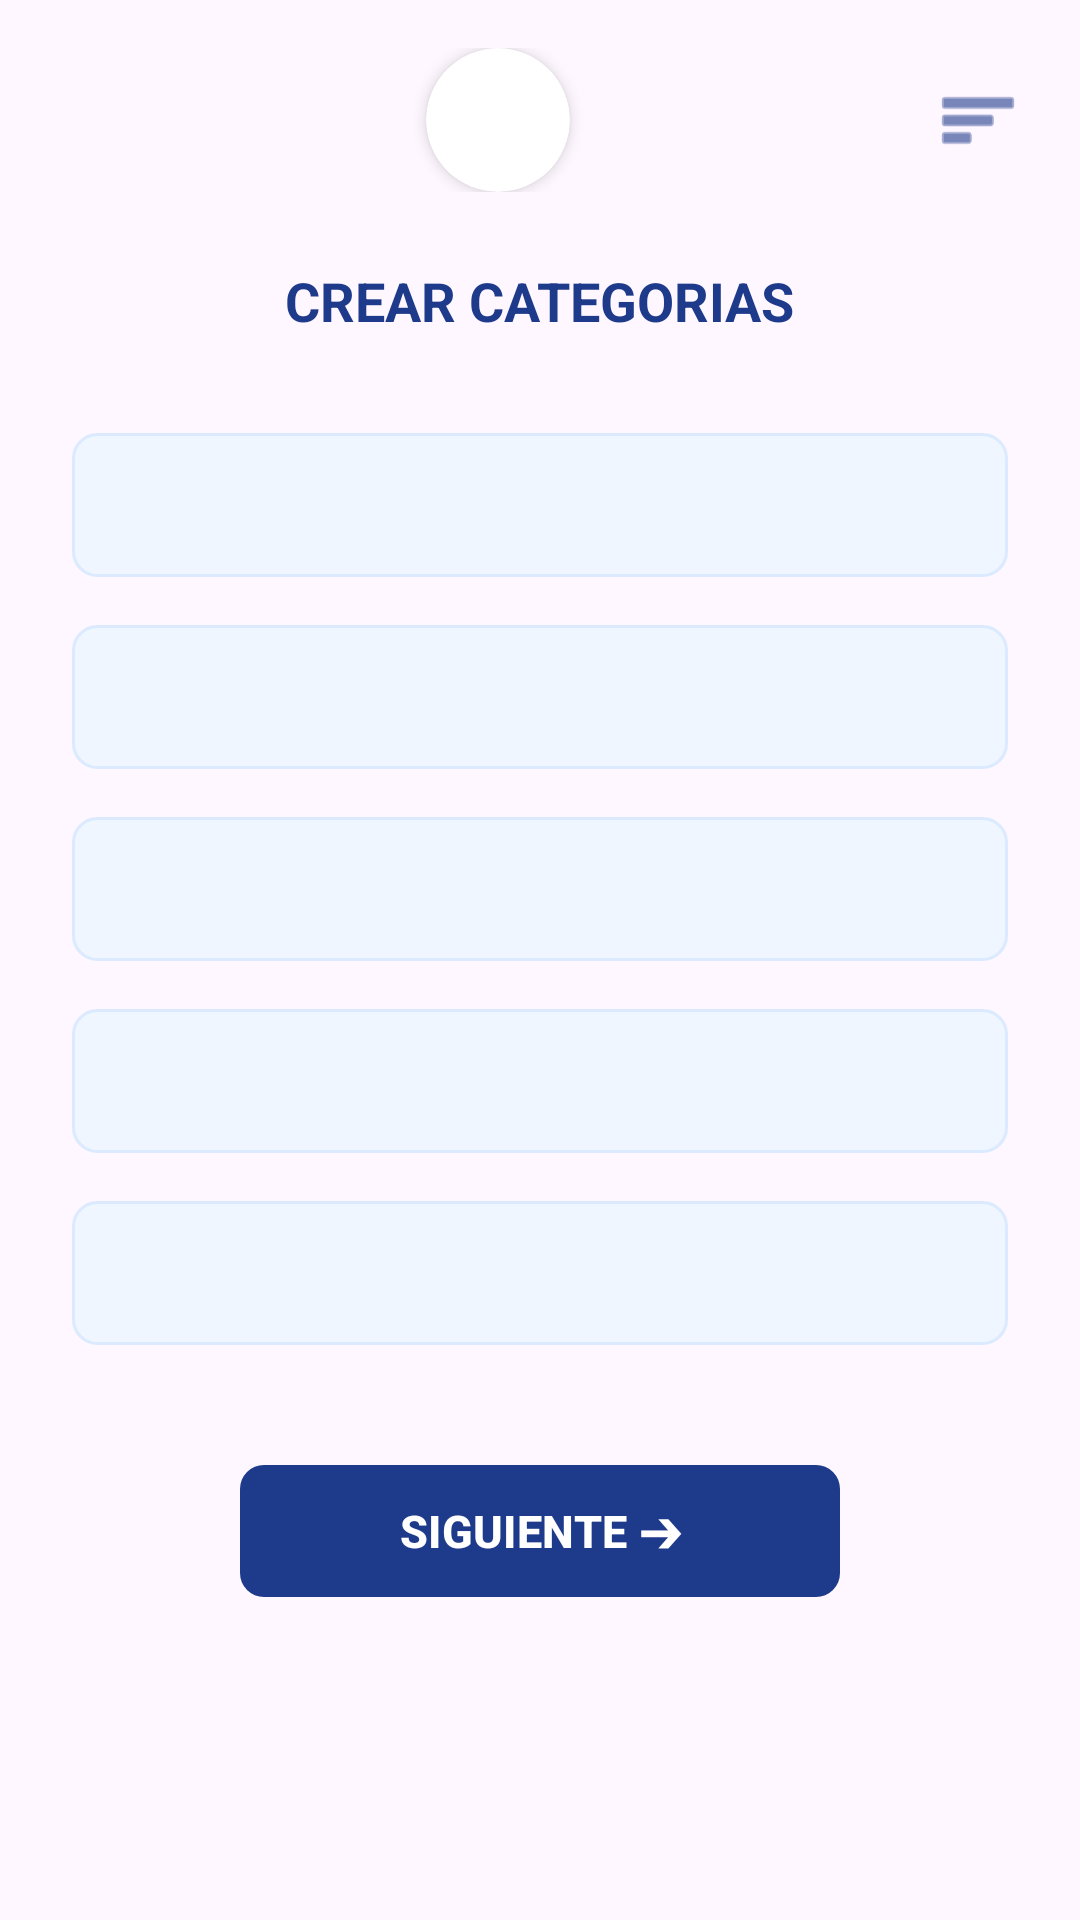

Where icons sit on this 1080 x 1920 app screen, as (x1, y1, x2, y2):
Menú: (942, 97, 1014, 144)
